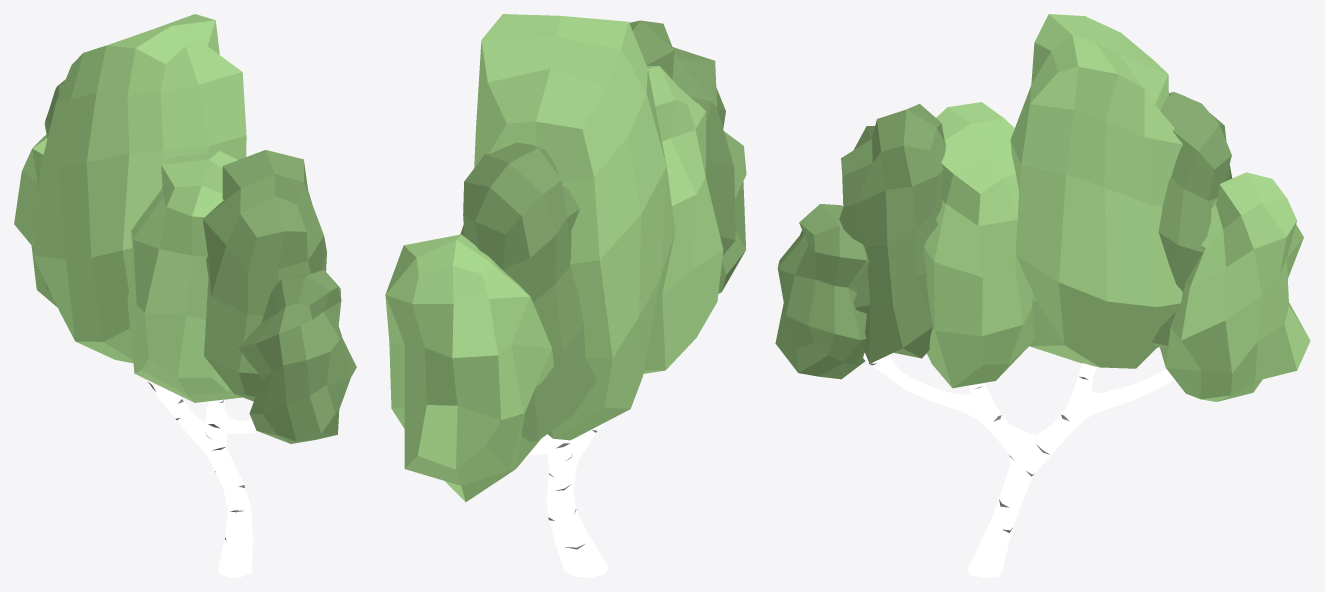
Rendered from BirchTree_4.gltf.
3 renders of one model, left to right at view 1: azimuth 30°, elevation 25°; view 2: azimuth 150°, elevation 25°; view 3: azimuth 270°, elevation 25°, orthographic. The views are drawn at different scales.
Visible parts, largest first — view 1: BirchTree_4; view 2: BirchTree_4; view 3: BirchTree_4.
Boxes of the visible parts, <box> form: BirchTree_4: <box>14,14,356,577</box>; BirchTree_4: <box>385,14,746,577</box>; BirchTree_4: <box>775,14,1310,577</box>.
Bounding box in the file's own units: 115 × 356 × 329.
